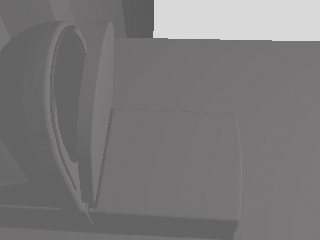lid_1: (77, 20, 113, 203)
